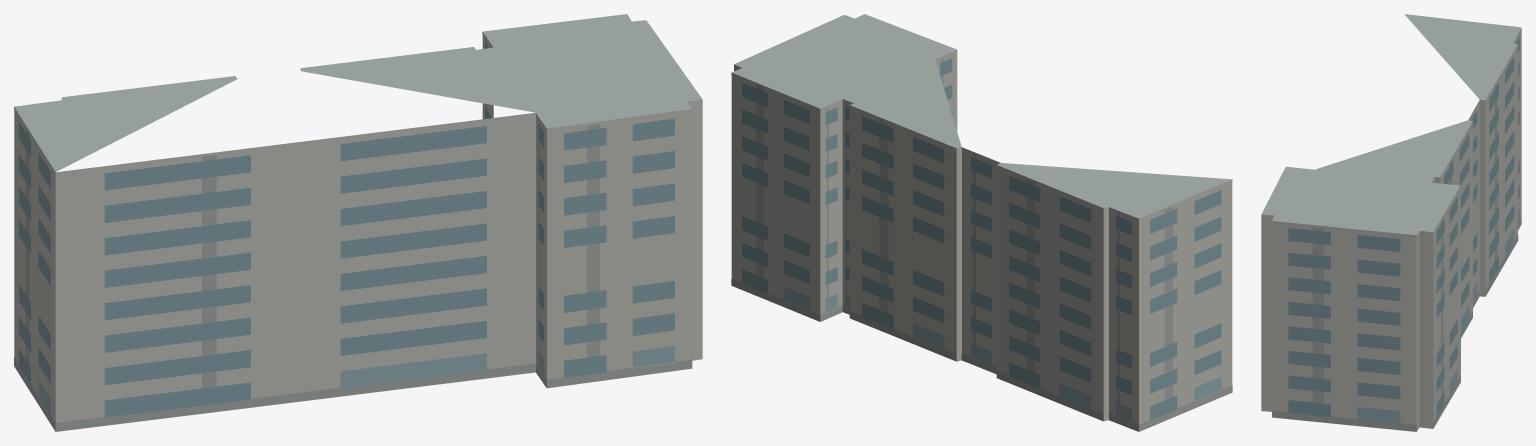
The model's file is survey-upis-32870213.glb.
3 renders of one model, left to right at view 1: azimuth 30°, elevation 25°; view 2: azimuth 150°, elevation 25°; view 3: azimuth 270°, elevation 25°, orthographic. The views are drawn at different scales.
Visible parts, largest first — view 1: survey-upis-32870213.tmp; view 2: survey-upis-32870213.tmp; view 3: survey-upis-32870213.tmp.
Boxes of the visible parts, x1=… form: survey-upis-32870213.tmp: x1=14, y1=14, x2=702, y2=431; survey-upis-32870213.tmp: x1=731, y1=14, x2=1232, y2=431; survey-upis-32870213.tmp: x1=1261, y1=14, x2=1521, y2=431.
Bounding box in the file's own units: 55.33 × 22.92 × 27.51.
